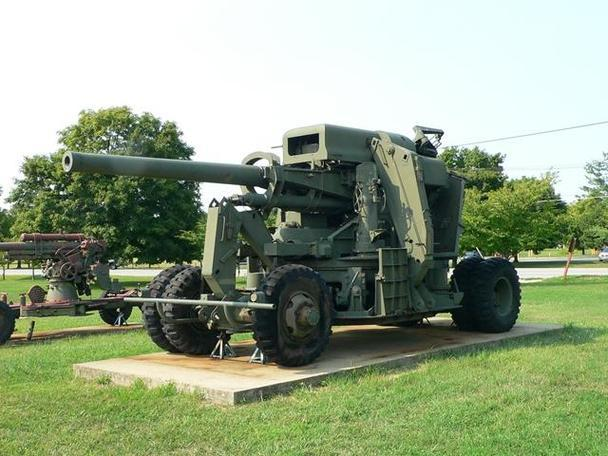MIL_SPG: (63, 125, 520, 366)
